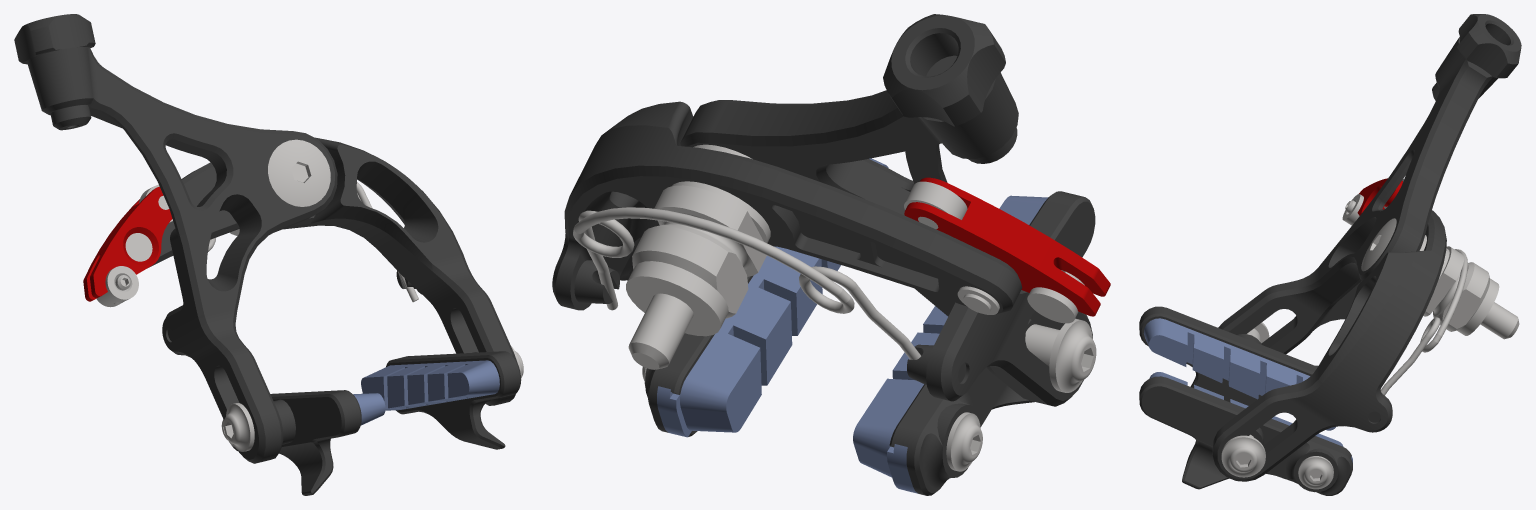
The model's file is rearrimbreak.fbx.
The picture shows the model from 3 angles, left to right: view 1: azimuth 30°, elevation 25°; view 2: azimuth 150°, elevation 25°; view 3: azimuth 270°, elevation 25°; orthographic projection. The views are drawn at different scales.
Visible parts, largest first — view 1: Твердое тело3, Твердое тело2, Твердое тело19, Твердое тело17, Твердое тело14, Твердое тело4, Твердое тело11, Твердое тело1, Твердое тело18, Твердое тело12, Твердое тело20, Твердое тело6; view 2: Твердое тело2, Твердое тело3, Твердое тело1, Твердое тело17, Твердое тело11, Твердое тело19, Твердое тело4, Твердое тело10, Твердое тело20, Твердое тело18, Твердое тело14, Твердое тело21 (+5 smaller); view 3: Твердое тело2, Твердое тело3, Твердое тело14, Твердое тело20, Твердое тело1, Твердое тело19, Твердое тело11, Твердое тело15, Твердое тело10, Твердое тело16, Твердое тело17, Твердое тело4.
Part boxes in pixels (left/top/right/bottom): Твердое тело3: left=26, top=47, right=337, bottom=463; Твердое тело2: left=147, top=137, right=517, bottom=405; Твердое тело19: left=231, top=390, right=361, bottom=495; Твердое тело17: left=361, top=360, right=499, bottom=410; Твердое тело14: left=386, top=351, right=521, bottom=449; Твердое тело4: left=83, top=186, right=172, bottom=301; Твердое тело11: left=14, top=14, right=95, bottom=130; Твердое тело1: left=229, top=139, right=330, bottom=235; Твердое тело18: left=223, top=403, right=254, bottom=451; Твердое тело12: left=96, top=266, right=138, bottom=307; Твердое тело20: left=353, top=393, right=385, bottom=425; Твердое тело6: left=125, top=233, right=152, bottom=261; Твердое тело2: left=552, top=101, right=1022, bottom=314; Твердое тело3: left=680, top=72, right=1092, bottom=406; Твердое тело1: left=626, top=144, right=770, bottom=369; Твердое тело17: left=657, top=158, right=888, bottom=437; Твердое тело11: left=883, top=14, right=1017, bottom=163; Твердое тело19: left=889, top=191, right=1095, bottom=495; Твердое тело4: left=904, top=177, right=1110, bottom=316; Твердое тело10: left=573, top=207, right=920, bottom=359; Твердое тело20: left=853, top=195, right=1047, bottom=493; Твердое тело18: left=1025, top=318, right=1096, bottom=392; Твердое тело14: left=645, top=275, right=753, bottom=436; Твердое тело21: left=946, top=412, right=982, bottom=471; Твердое тело2: left=1212, top=210, right=1446, bottom=481; Твердое тело3: left=1218, top=37, right=1497, bottom=354; Твердое тело14: left=1139, top=376, right=1352, bottom=495; Твердое тело20: left=1143, top=318, right=1335, bottom=430; Твердое тело1: left=1361, top=218, right=1519, bottom=339; Твердое тело19: left=1139, top=306, right=1318, bottom=405; Твердое тело11: left=1432, top=14, right=1521, bottom=100; Твердое тело15: left=1221, top=434, right=1265, bottom=477; Твердое тело10: left=1380, top=249, right=1467, bottom=395; Твердое тело16: left=1298, top=456, right=1333, bottom=489; Твердое тело17: left=1149, top=372, right=1352, bottom=462; Твердое тело4: left=1357, top=178, right=1402, bottom=215.
Size of the model in its own units: 84.48 by 89.3 by 86.15.
